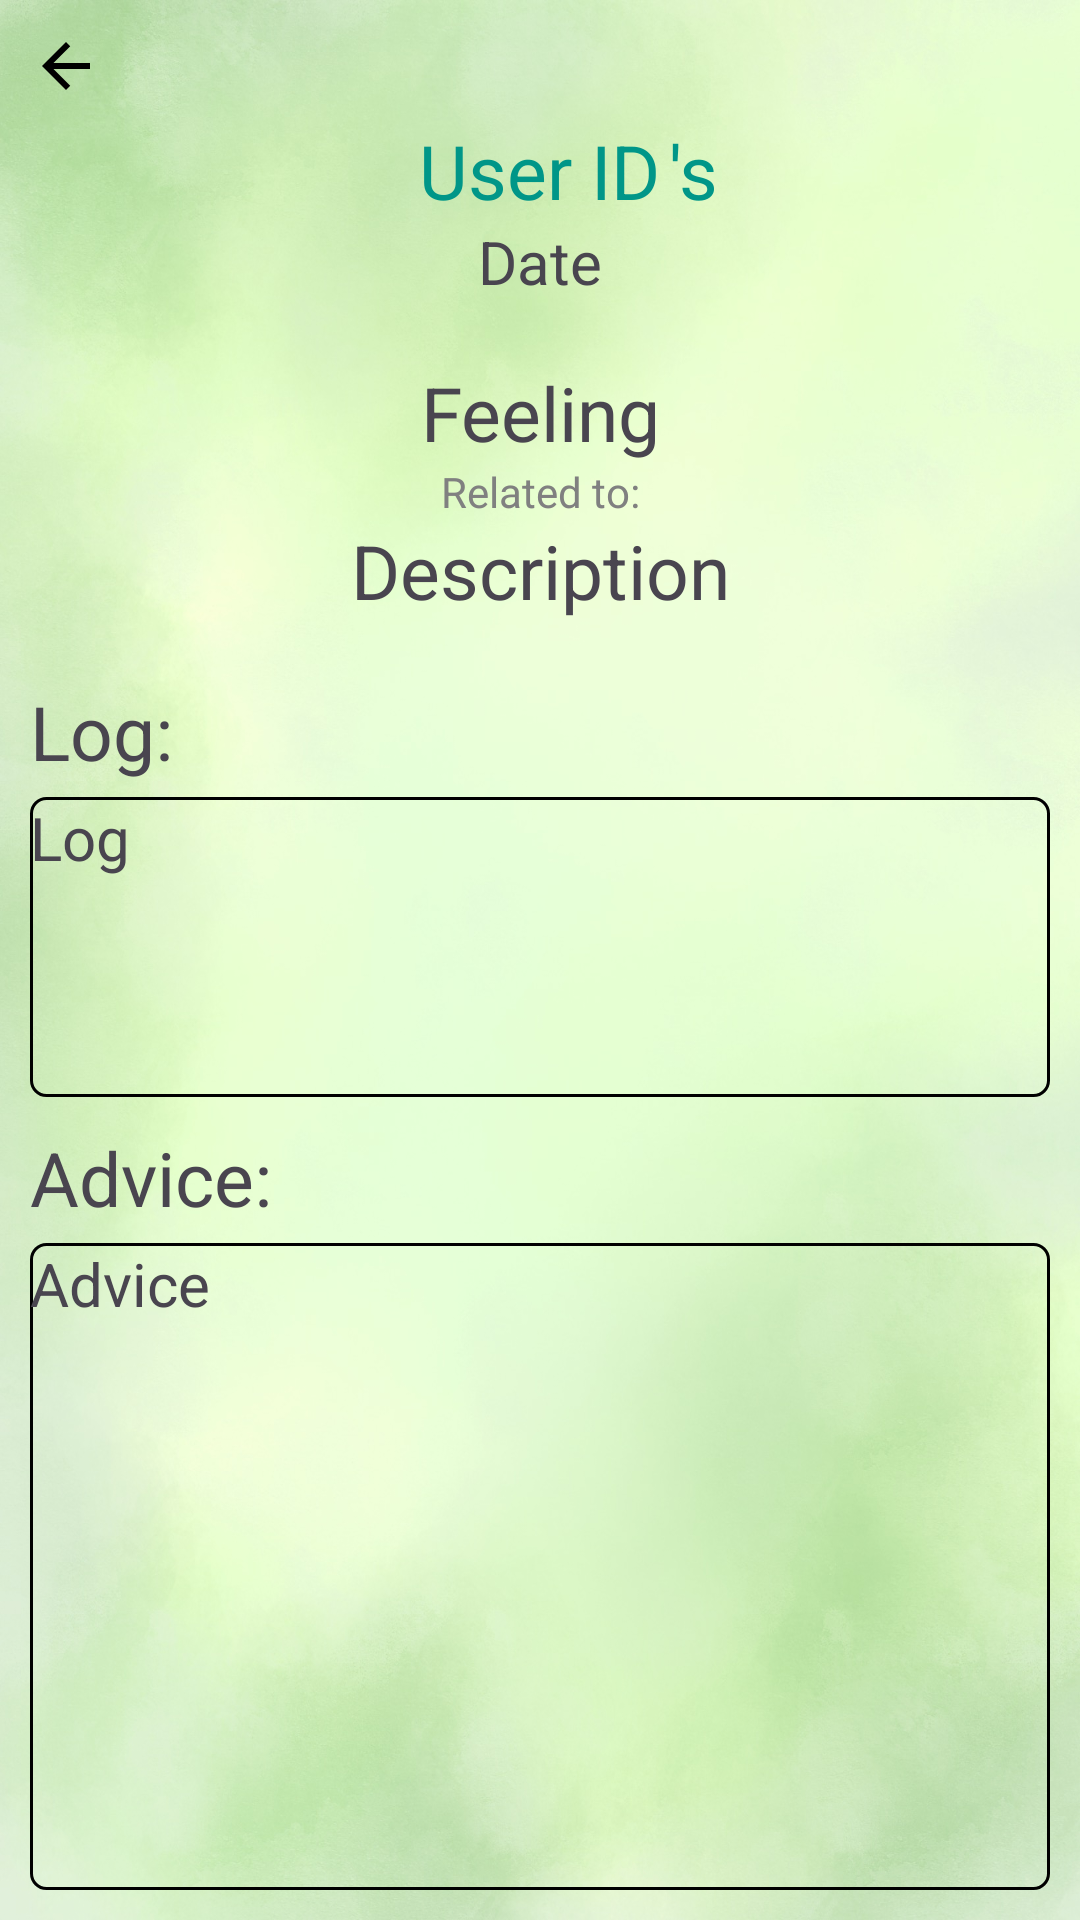

Icon click points for this 1080x1920 phone screenshot, format [x,y]:
arrow back: [66,66]
